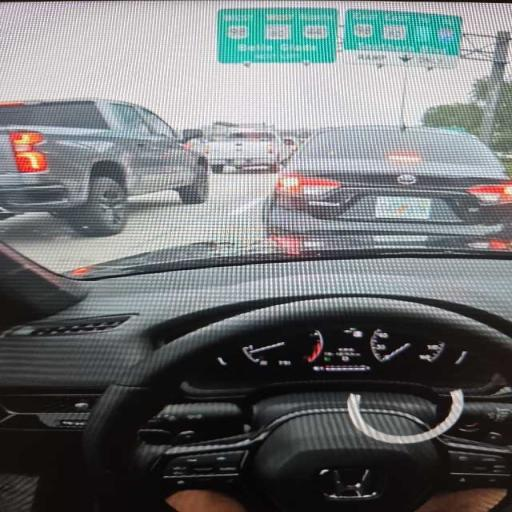car: (0, 0, 511, 511), (266, 127, 511, 236)
lane: (0, 172, 275, 271)
truck: (0, 100, 207, 235), (193, 125, 289, 173)
